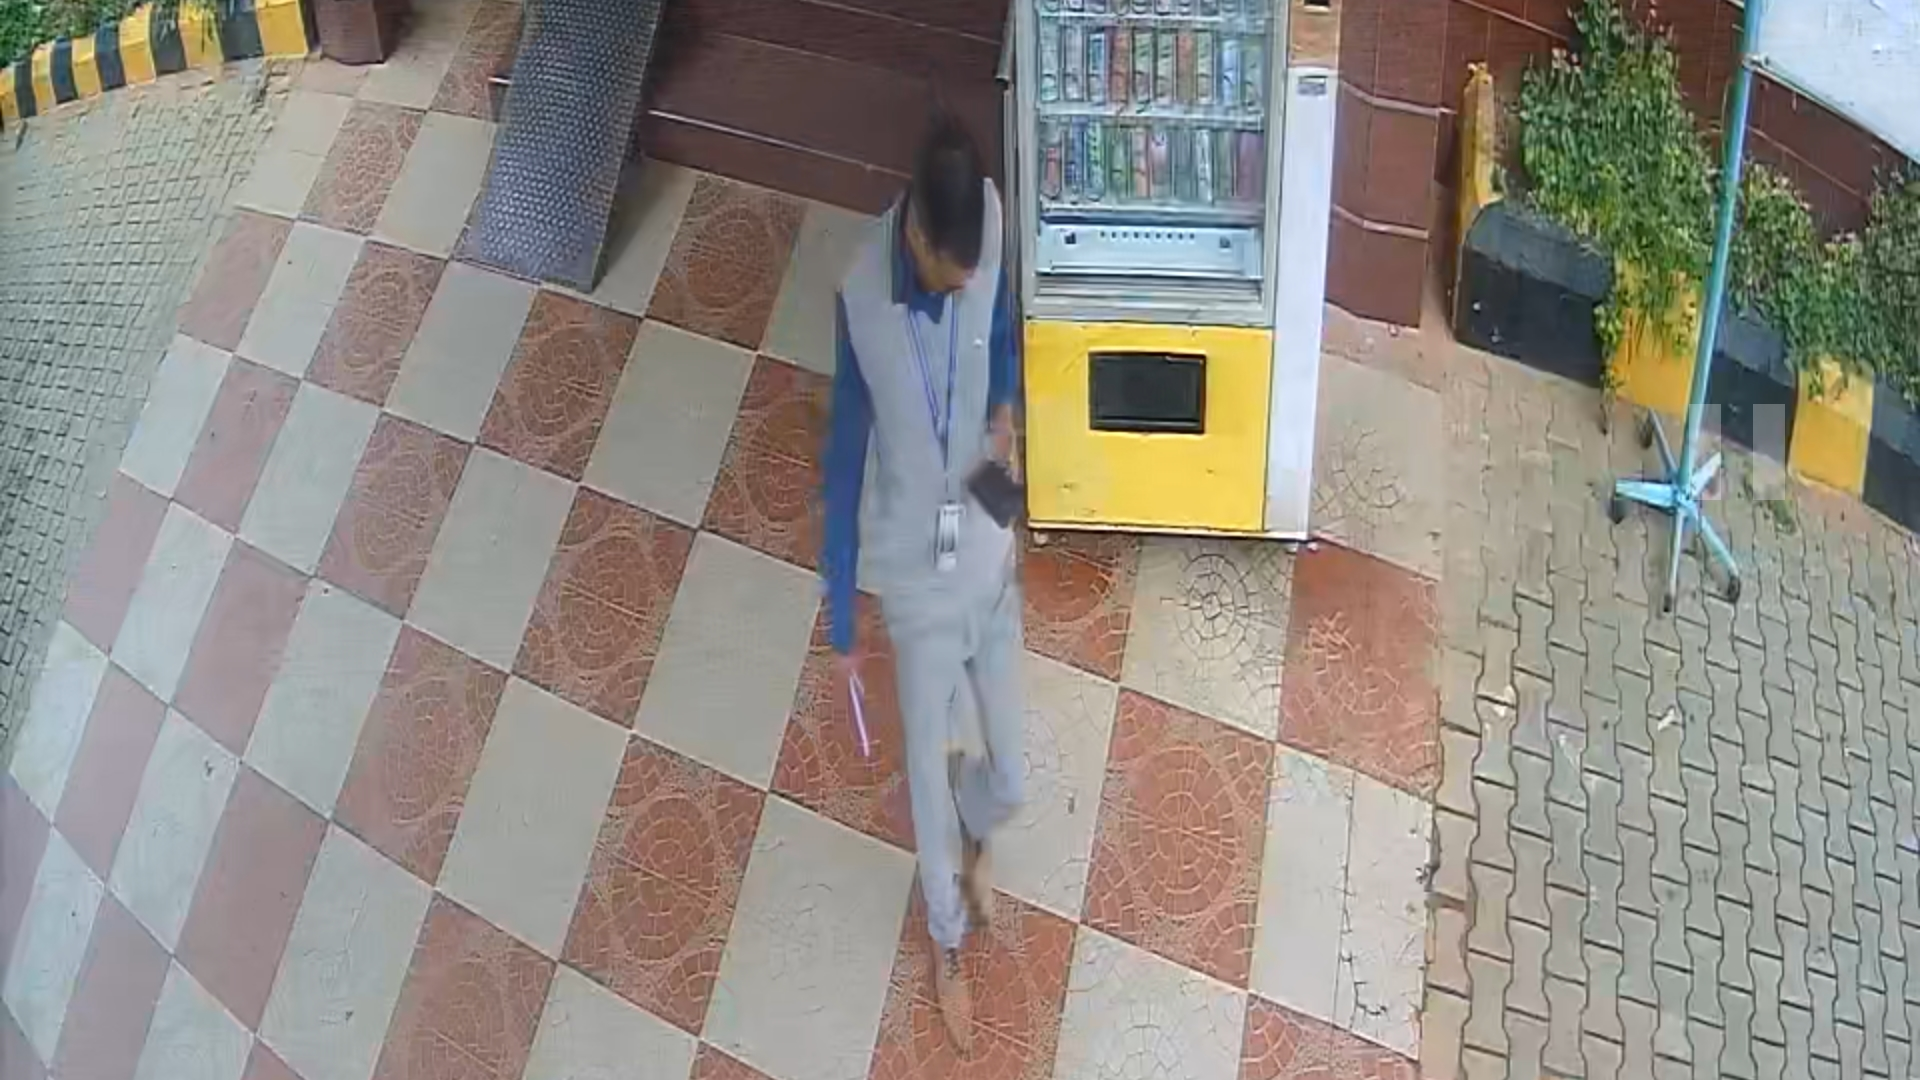not intruder: (808, 107, 1085, 1065)
